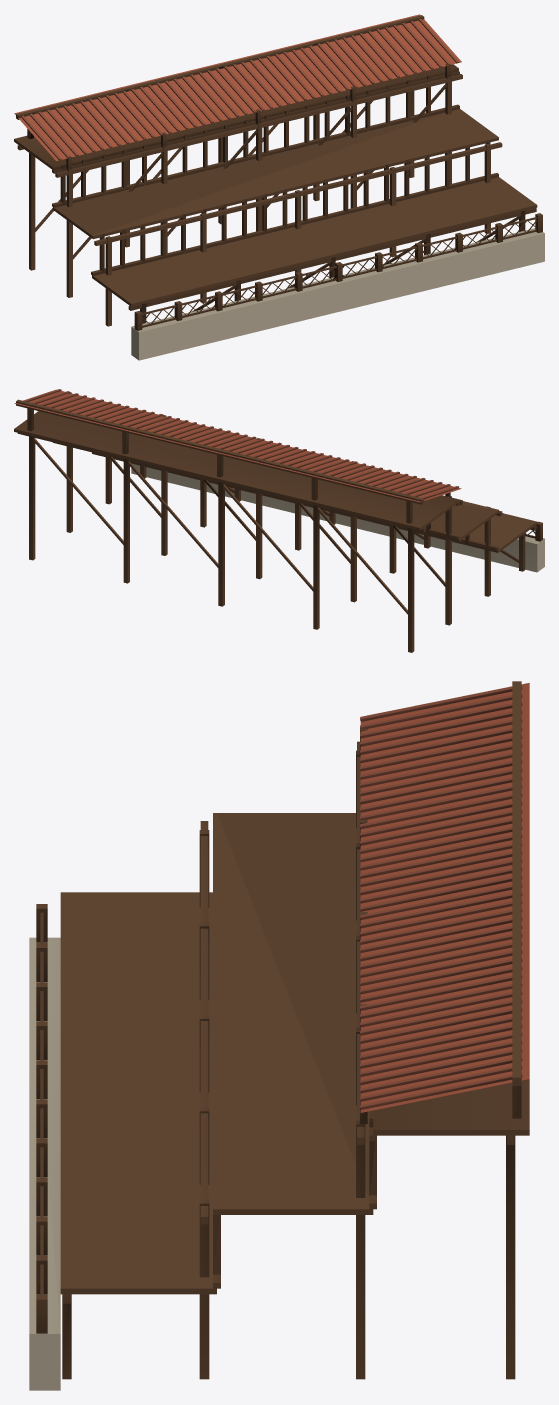
The model's file is rome_vatican_stand.glb.
The picture shows the model from 3 angles, top to bottom: view 1: azimuth 30°, elevation 25°; view 2: azimuth 150°, elevation 25°; view 3: azimuth 270°, elevation 25°; orthographic projection. The views are drawn at different scales.
Visible parts, largest first — view 1: rome_vatican_stand; view 2: rome_vatican_stand; view 3: rome_vatican_stand.
Part boxes in pixels (x1,y1,x2,y2): rome_vatican_stand: [14, 14, 544, 360]; rome_vatican_stand: [14, 389, 544, 652]; rome_vatican_stand: [29, 681, 529, 1390].
Size of the model in its own units: 30 by 11.05 by 16.
